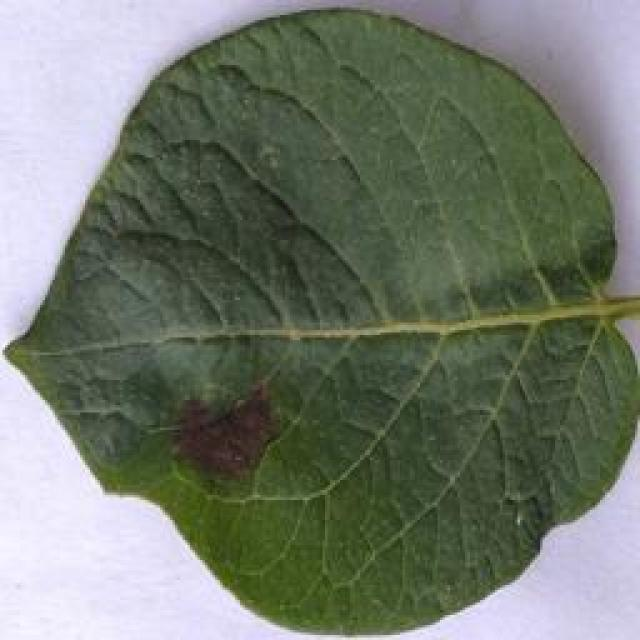Potato_Late_Blight: (4, 6, 632, 628)
